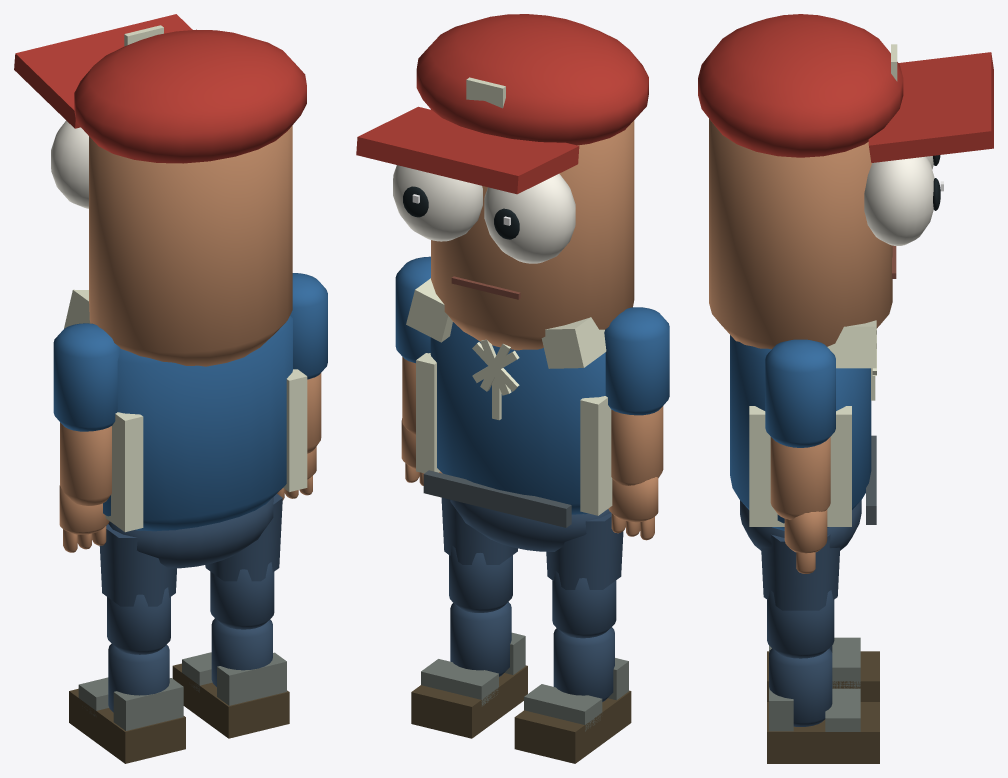
Rendered from spectator_1.glb.
3 renders of one model, left to right at view 1: azimuth 30°, elevation 25°; view 2: azimuth 150°, elevation 25°; view 3: azimuth 270°, elevation 25°, orthographic.
Visible parts, largest first — view 1: Head, RallySpectator, LeftShin, RightShin, LeftLeg, LeftArm, LeftForearm, RightLeg, RightArm, RightForearm; view 2: Head, RallySpectator, LeftShin, RightShin, LeftLeg, LeftArm, LeftForearm, RightLeg, RightArm, RightForearm; view 3: Head, RallySpectator, RightShin, RightLeg, RightArm, RightForearm, LeftShin.
Part boxes in pixels (x1,y1,x2,y2): Head: [14, 14, 306, 366]; RallySpectator: [64, 289, 307, 568]; LeftShin: [69, 643, 185, 763]; RightShin: [172, 618, 289, 738]; LeftLeg: [99, 524, 176, 654]; LeftArm: [53, 323, 120, 431]; LeftForearm: [59, 422, 111, 552]; RightLeg: [205, 494, 282, 629]; RightArm: [290, 273, 327, 379]; RightForearm: [277, 373, 321, 500]; Head: [356, 14, 648, 350]; RallySpectator: [406, 278, 612, 551]; LeftShin: [514, 627, 631, 763]; RightShin: [411, 602, 527, 738]; LeftLeg: [546, 513, 623, 638]; LeftArm: [604, 307, 669, 415]; LeftForearm: [608, 406, 663, 540]; RightLeg: [441, 497, 517, 612]; RightArm: [395, 256, 430, 363]; RightForearm: [401, 357, 442, 485]; Head: [698, 14, 993, 349]; RallySpectator: [730, 320, 876, 550]; RightShin: [767, 648, 879, 763]; RightLeg: [761, 534, 840, 658]; RightArm: [765, 339, 835, 447]; RightForearm: [770, 437, 830, 573]; LeftShin: [767, 637, 879, 701].
Size of the model in its own units: 0.87 by 2.15 by 0.8376.
